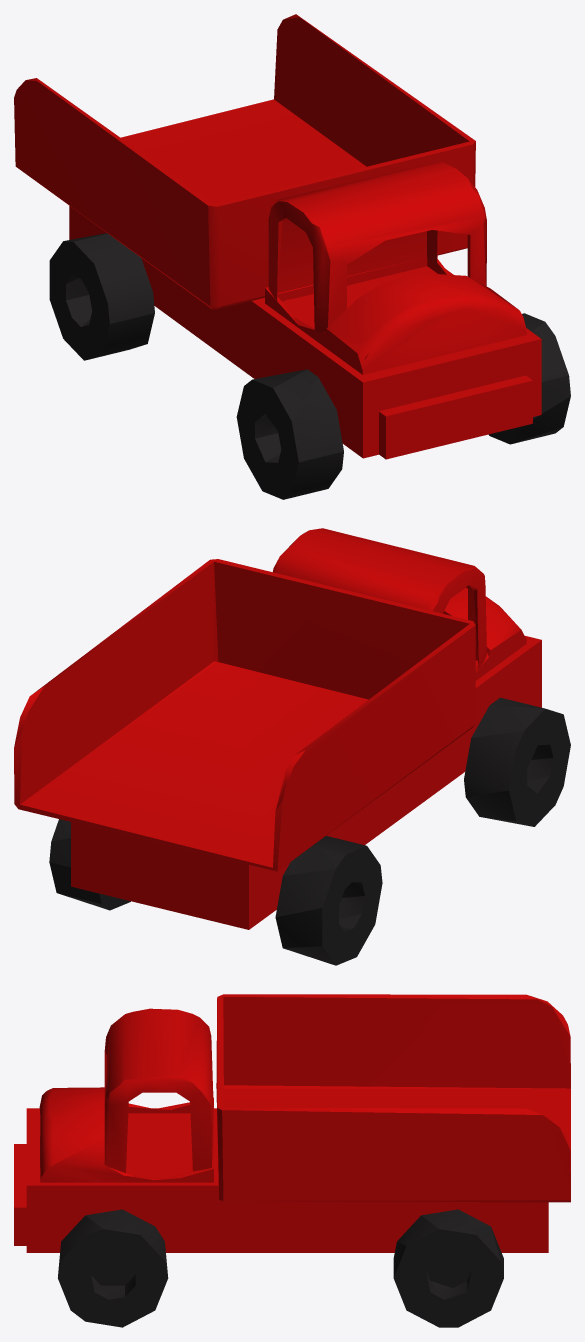
Rendered from Truck 1.FBX.
3 views of the same model, one above another, from view 1: azimuth 30°, elevation 25°; view 2: azimuth 150°, elevation 25°; view 3: azimuth 270°, elevation 25° (orthographic). The views are drawn at different scales.
Visible parts, largest first — view 1: truck; view 2: truck; view 3: truck.
Part boxes in pixels (x1=…): truck: x1=14, y1=14, x2=570, y2=499; truck: x1=14, y1=528, x2=570, y2=965; truck: x1=14, y1=994, x2=570, y2=1327.
Size of the model in its own units: 21.78 by 19.48 by 43.44.
Materials: 1 (1 with a texture image).
